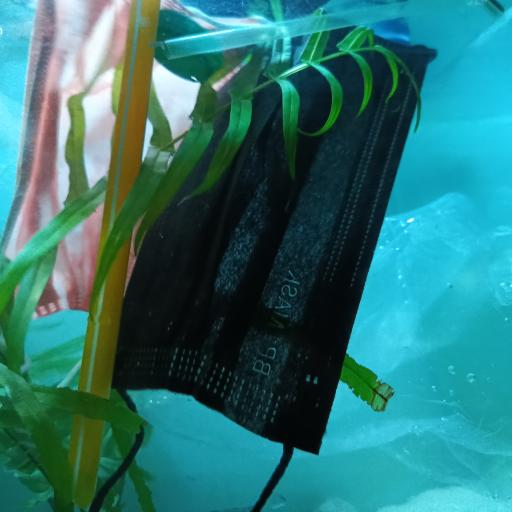bottle_cap: (156, 8, 222, 84)
mask: (120, 0, 434, 500), (0, 0, 237, 319)
plastic_bag: (337, 192, 512, 512)
plastic_straw: (62, 0, 159, 509), (162, 0, 484, 62)
